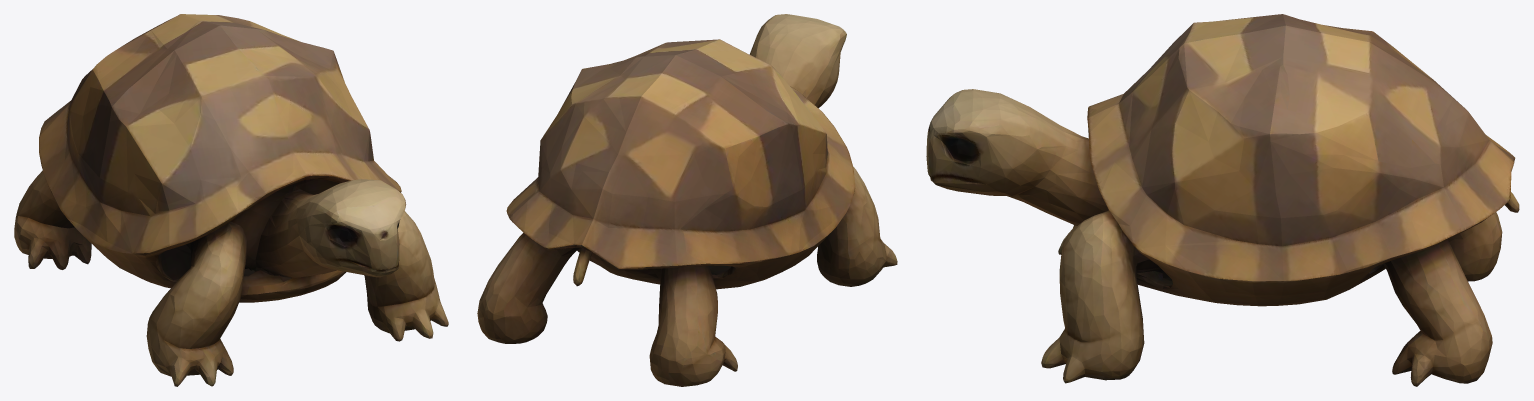
Rendered from desert_tortoise.glb.
3 views of the same model, side by side, from view 1: azimuth 30°, elevation 25°; view 2: azimuth 150°, elevation 25°; view 3: azimuth 270°, elevation 25° (orthographic). The views are drawn at different scales.
Visible parts, largest first — view 1: world; view 2: world; view 3: world.
Boxes of the visible parts, x1,y1,x2,y2 form: world: (14, 14, 448, 386); world: (477, 14, 897, 386); world: (926, 14, 1519, 386).
Bounding box in the file's own units: 0.6143 × 0.5482 × 1.
1 material, 1 textured.
